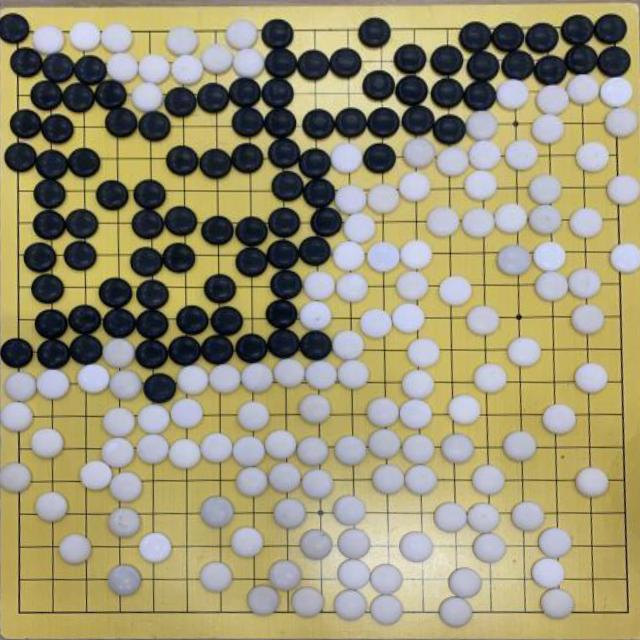blackstone: (69, 333, 104, 366), (105, 107, 139, 139), (35, 308, 69, 340), (534, 54, 568, 86), (62, 82, 96, 114), (565, 44, 599, 76), (597, 46, 631, 78), (102, 307, 137, 338), (164, 206, 199, 237), (68, 305, 104, 335), (363, 142, 396, 174), (232, 106, 265, 138), (268, 138, 301, 170), (36, 148, 69, 180), (74, 54, 107, 86), (299, 330, 333, 361), (270, 269, 304, 300), (136, 309, 170, 340), (37, 339, 71, 370), (266, 239, 300, 270), (31, 273, 65, 304), (64, 240, 98, 271), (24, 242, 58, 273), (264, 107, 298, 138), (298, 148, 332, 179), (164, 87, 198, 118), (66, 209, 100, 240), (430, 78, 464, 109), (133, 179, 167, 210), (362, 70, 396, 101), (264, 48, 298, 79), (430, 45, 464, 76), (561, 15, 595, 46), (402, 104, 434, 136), (272, 170, 304, 202), (464, 80, 496, 112), (303, 109, 335, 141), (132, 209, 164, 241), (34, 178, 66, 210), (310, 207, 343, 238), (433, 114, 466, 145), (130, 246, 163, 277), (268, 207, 301, 238), (235, 216, 268, 247), (166, 145, 199, 176), (1, 338, 34, 369), (395, 75, 428, 106), (197, 82, 230, 113), (68, 147, 101, 178), (41, 113, 74, 144), (33, 210, 66, 241), (42, 52, 75, 83), (594, 13, 627, 44), (136, 340, 170, 370), (210, 306, 244, 336), (168, 336, 202, 366), (235, 247, 269, 277), (298, 236, 332, 266), (163, 243, 197, 273), (202, 215, 236, 245), (143, 374, 177, 404), (136, 280, 170, 310), (99, 278, 133, 308), (137, 111, 171, 141), (96, 180, 130, 210), (466, 50, 500, 80), (261, 78, 295, 108), (525, 23, 559, 53), (303, 177, 335, 208), (368, 107, 400, 138), (5, 142, 37, 173), (31, 80, 63, 111), (10, 109, 42, 140), (10, 47, 42, 78), (267, 329, 300, 359), (201, 336, 234, 366), (176, 306, 209, 336), (199, 149, 232, 179), (95, 80, 128, 110), (502, 50, 535, 80), (297, 50, 330, 80), (394, 44, 427, 74), (261, 18, 294, 48), (459, 22, 492, 52), (358, 17, 391, 47), (335, 108, 367, 138), (232, 144, 264, 174), (330, 48, 362, 78), (230, 77, 262, 107), (492, 22, 524, 52), (0, 12, 30, 44), (235, 334, 268, 363), (204, 274, 237, 303), (267, 300, 299, 329)
whitestone: (36, 368, 71, 402), (448, 567, 484, 600), (496, 243, 532, 276), (538, 526, 572, 560), (34, 491, 69, 524), (540, 588, 575, 621), (107, 564, 142, 597), (570, 304, 606, 336), (438, 596, 474, 628), (31, 427, 65, 460), (337, 528, 371, 561), (503, 430, 538, 462), (471, 465, 506, 497), (102, 407, 137, 439), (433, 502, 468, 534), (79, 460, 114, 492), (472, 532, 507, 564), (467, 502, 502, 534), (542, 404, 577, 436), (534, 271, 569, 303), (199, 561, 234, 593), (333, 590, 368, 622), (138, 532, 173, 564), (110, 471, 143, 504), (268, 462, 302, 494), (304, 360, 338, 392), (233, 435, 267, 467), (404, 464, 438, 496), (137, 403, 171, 435), (102, 437, 136, 469), (168, 438, 202, 470), (371, 464, 405, 496), (396, 270, 430, 302), (392, 302, 426, 334), (369, 563, 403, 595), (338, 558, 372, 590), (268, 559, 302, 591), (569, 208, 603, 240), (200, 496, 234, 528), (532, 557, 566, 589), (575, 466, 609, 498), (58, 534, 92, 566), (566, 73, 600, 105), (370, 594, 404, 626), (599, 76, 633, 108), (507, 337, 542, 368), (238, 400, 271, 432), (177, 364, 210, 396), (236, 466, 269, 498), (368, 428, 401, 460), (333, 240, 366, 272), (495, 203, 528, 235), (1, 401, 34, 433), (4, 371, 37, 403), (436, 146, 469, 178), (331, 142, 364, 174), (201, 43, 234, 75), (131, 81, 164, 113), (296, 436, 330, 467), (274, 498, 308, 529), (399, 399, 433, 430), (401, 370, 435, 401), (136, 434, 170, 465), (264, 429, 298, 460), (170, 398, 204, 429), (448, 394, 482, 425), (336, 272, 370, 303), (402, 434, 436, 465), (333, 495, 367, 526), (466, 305, 500, 336), (511, 501, 545, 532), (299, 300, 333, 331), (231, 527, 265, 558), (334, 184, 368, 215), (300, 529, 334, 560), (464, 170, 498, 201), (528, 174, 562, 205), (461, 208, 495, 239), (366, 241, 400, 272), (574, 363, 608, 394), (531, 114, 565, 145), (529, 204, 563, 235), (536, 84, 570, 115), (496, 79, 530, 110), (606, 174, 640, 205), (604, 107, 638, 138), (77, 364, 112, 394), (473, 364, 508, 394), (438, 276, 473, 306), (368, 397, 400, 429), (0, 462, 32, 494), (292, 586, 324, 618), (301, 468, 334, 499), (241, 362, 274, 393), (335, 435, 368, 466), (109, 369, 142, 400), (303, 271, 336, 302), (343, 212, 376, 243), (426, 206, 459, 237), (568, 268, 601, 299), (109, 507, 142, 538), (533, 241, 566, 272), (233, 48, 266, 79), (247, 585, 280, 616), (171, 54, 204, 85), (33, 24, 66, 55), (209, 364, 243, 394), (441, 434, 475, 464), (200, 433, 234, 463), (407, 338, 441, 368), (399, 532, 433, 562), (504, 140, 538, 170), (468, 140, 502, 170), (575, 142, 609, 172), (138, 54, 172, 84), (166, 26, 200, 56), (338, 360, 370, 391), (274, 357, 306, 388), (104, 338, 136, 369), (360, 308, 392, 339), (398, 171, 430, 202), (403, 138, 435, 169), (400, 239, 432, 270), (106, 52, 138, 83), (69, 21, 101, 52), (466, 110, 499, 140), (100, 23, 133, 53), (609, 243, 640, 274), (333, 330, 365, 360), (368, 184, 400, 214), (226, 20, 258, 50), (300, 395, 331, 425)
